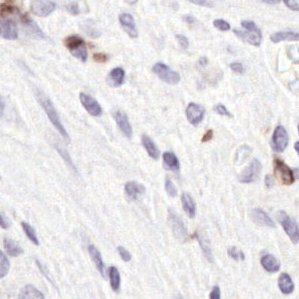Lymphocyte: (272, 157, 295, 187)
